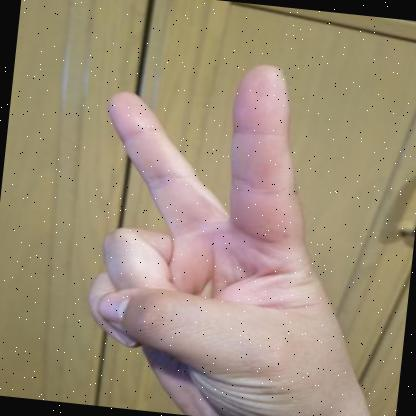V: (88, 64, 371, 416)
